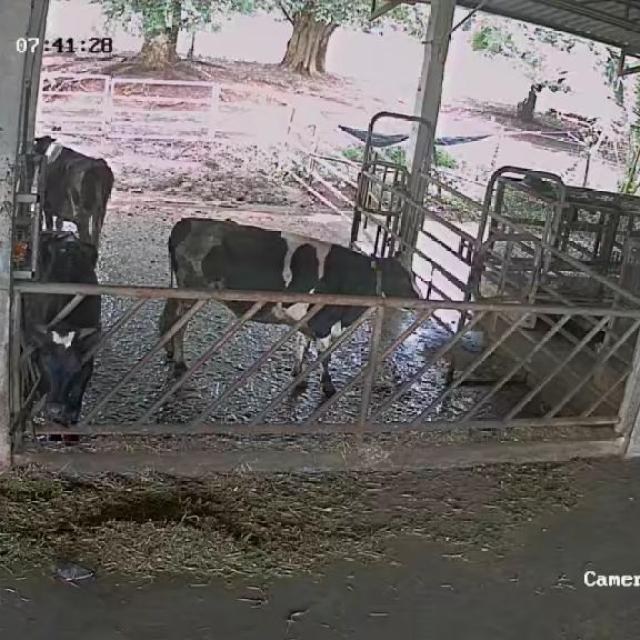feeding: (19, 231, 105, 457)
standing: (156, 207, 420, 407), (32, 134, 122, 264)
